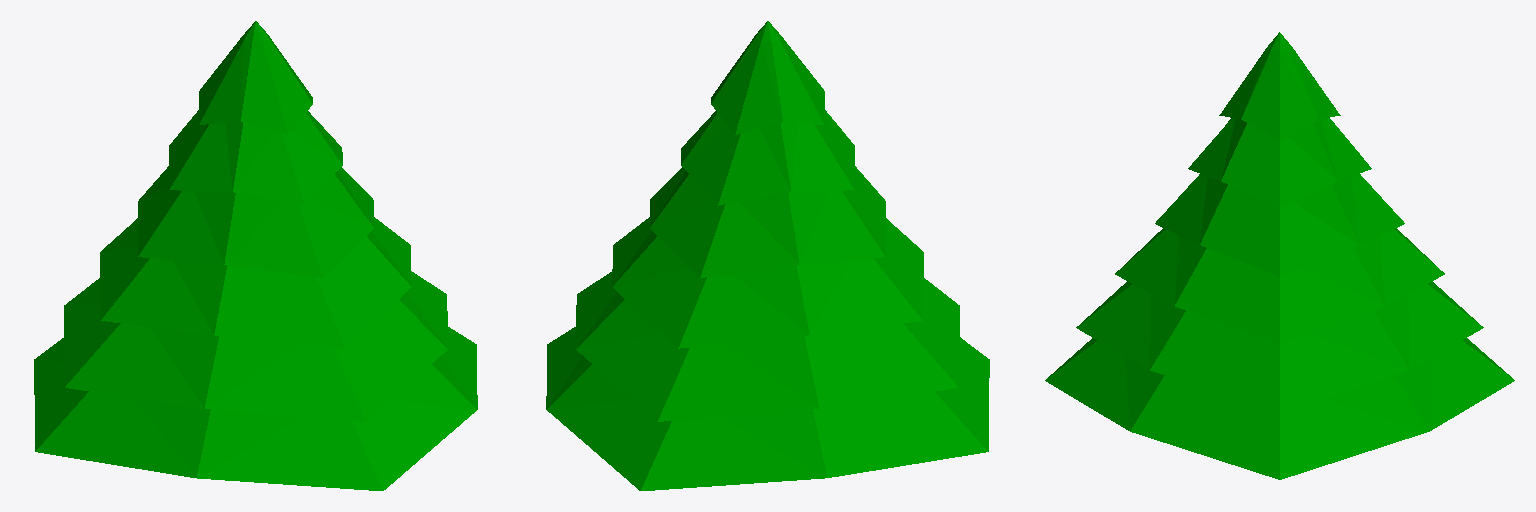
The robot description file, URDF, robot "tree1":
<?xml version="1.0"?>
  <robot name="tree1">

<link name="base_link">
     <visual>
       <!-- <origin xyz="-4 -3 0"/> -->
        <geometry>
        <mesh filename="package://world_model_description/meshes/tanne2.dae"/>
        </geometry>
     </visual> 
   
     <collision>
       <geometry>
	 <mesh filename="package://world_model_description/meshes/tanne2.dae"/>
       </geometry>
     </collision>

<!-- <collision>-->
      <!--<origin xyz="-4 -3 0"/> -->     
<!--       <geometry>
       <box size="1 1 2"/>
       </geometry>
 </collision>
<collision>
        <origin xyz="0 0 2.5"/>      
       <geometry>    
        <sphere radius="2"/>
       </geometry>
</collision>-->
 <inertial>
       <mass value="1" />
	<inertia ixx="1.0" ixy="0.0" ixz="0.0" iyy="1.0" iyz="0.0" izz="1.0" />
       </inertial>
</link>

   <gazebo>
     <static>true</static>
   </gazebo>

</robot>

--- Render facts (derived) ---
Views: 3 orthographic renders of the robot side by side, from view 1: azimuth 30°, elevation 25°; view 2: azimuth 150°, elevation 25°; view 3: azimuth 270°, elevation 25°.
Robot: tree1 — 1 links, 0 joints (none); root link base_link; default pose: every joint at zero.
Links seen in each view (by area): view 1: base_link; view 2: base_link; view 3: base_link.
Boxes of the visible links, box(x1,y1,x2,y2) form: base_link: box(34, 21, 477, 490); base_link: box(546, 21, 989, 490); base_link: box(1045, 32, 1514, 479).
Size in the robot's own frame: 6.4 by 6.4 by 5.89 metres.
Meshes: 1 distinct files referenced, 1 mesh visuals loaded (1 Collada DAE).
